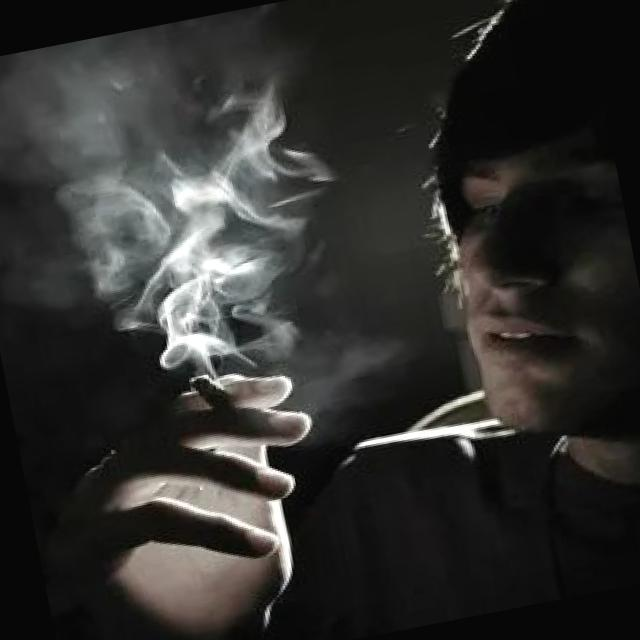cigarette: (183, 362, 256, 422)
